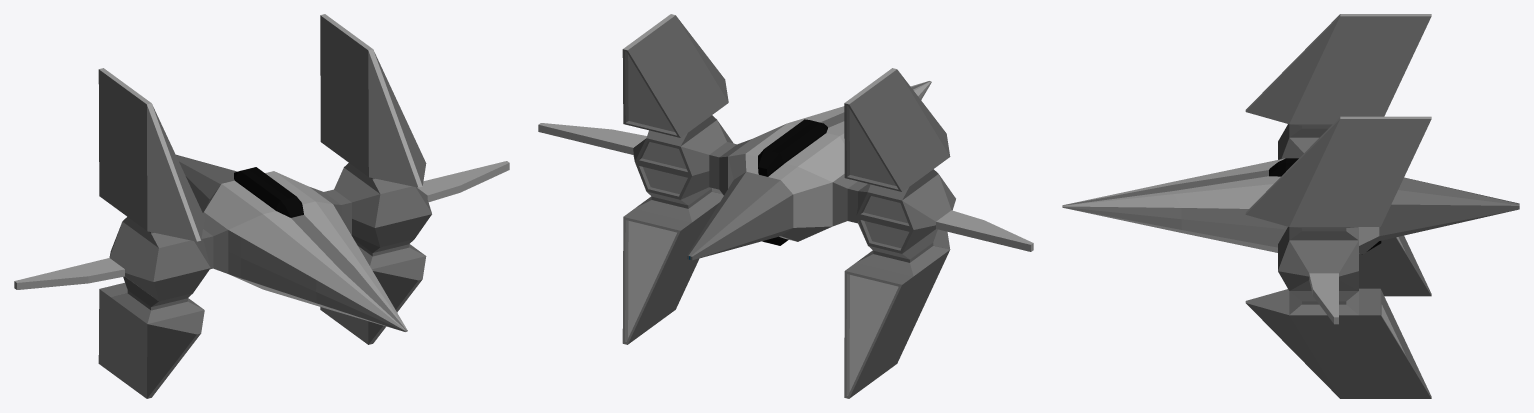
File: SpaceshipNeutralMOE.fbx
The picture shows the model from 3 angles, left to right: view 1: azimuth 30°, elevation 25°; view 2: azimuth 150°, elevation 25°; view 3: azimuth 270°, elevation 25°; orthographic projection. The views are drawn at different scales.
Parts seen in each view (by area): view 1: Cube.001; view 2: Cube.001; view 3: Cube.001.
Part boxes in pixels (x1,y1,x2,y2): Cube.001: [14, 14, 509, 398]; Cube.001: [538, 14, 1033, 398]; Cube.001: [1062, 14, 1519, 398].
Bounding box in the file's own units: 1368 × 782 × 1157.
Materials: 1 (1 with a texture image).
